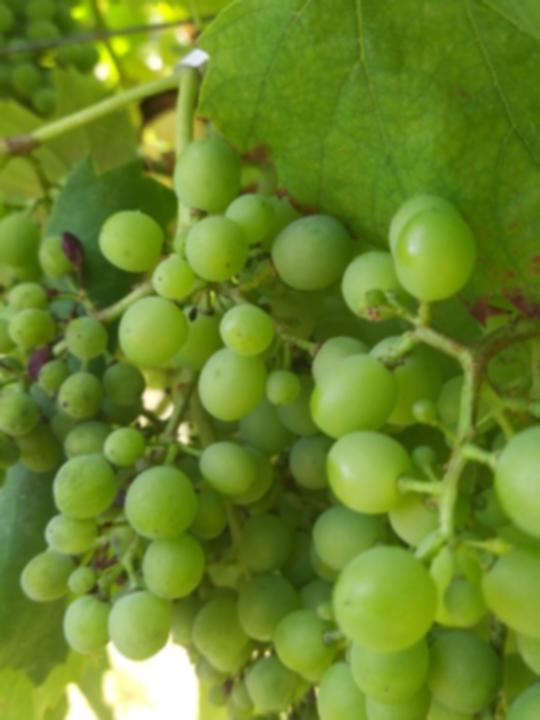grape: (273, 197, 540, 720), (0, 140, 257, 658)
